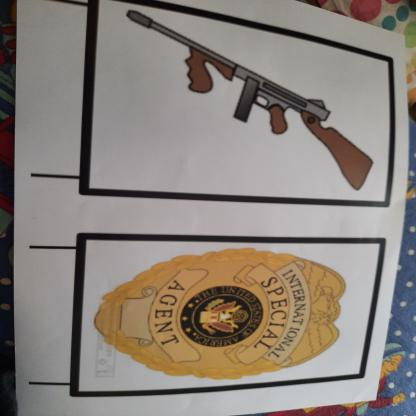Bootlegger: (102, 10, 378, 198)
G-man: (86, 236, 357, 384)
